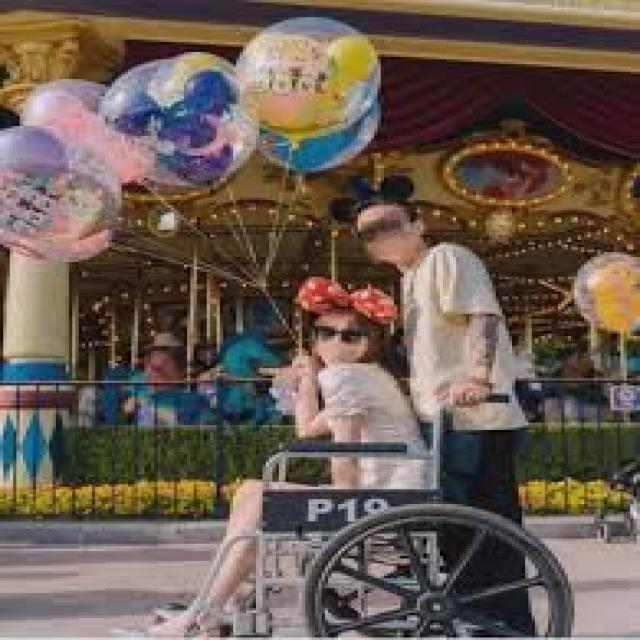wheelchairs: (204, 376, 600, 638)
